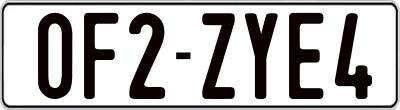0: (36, 10, 71, 102)
2: (127, 12, 168, 99)
4: (334, 13, 376, 104)
E: (289, 12, 327, 99)
F: (82, 11, 118, 99)
Y: (245, 11, 282, 102)
Z: (201, 10, 235, 100)
